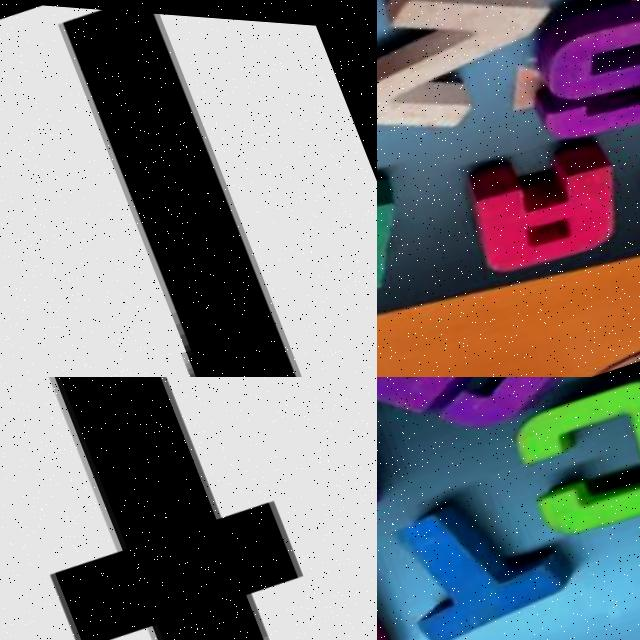A: (444, 120, 639, 289)
C: (497, 377, 640, 547)
D: (377, 143, 421, 332)
F: (0, 377, 375, 640)
G: (377, 377, 594, 471)
R: (0, 0, 376, 377)
S: (508, 0, 640, 148)
T: (377, 447, 590, 640), (616, 85, 640, 221)
Z: (377, 0, 584, 174)
